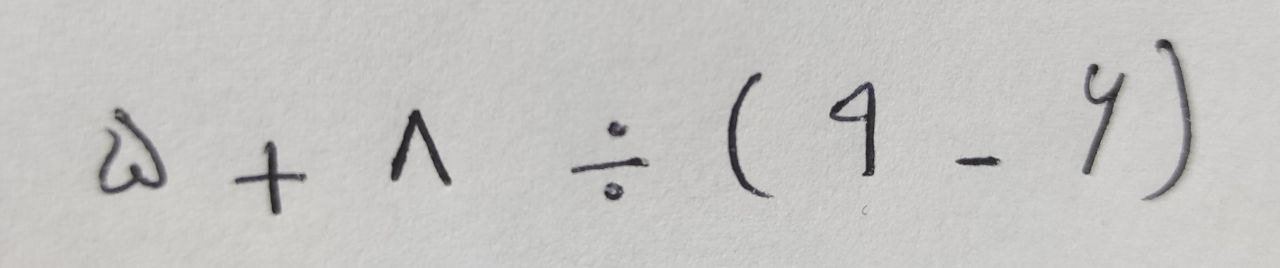character: (1141, 38, 1193, 203), (569, 118, 652, 203), (726, 71, 776, 201), (98, 107, 170, 196), (232, 139, 309, 217), (389, 108, 454, 189), (1081, 63, 1126, 176), (828, 81, 876, 176), (956, 156, 1005, 167)
